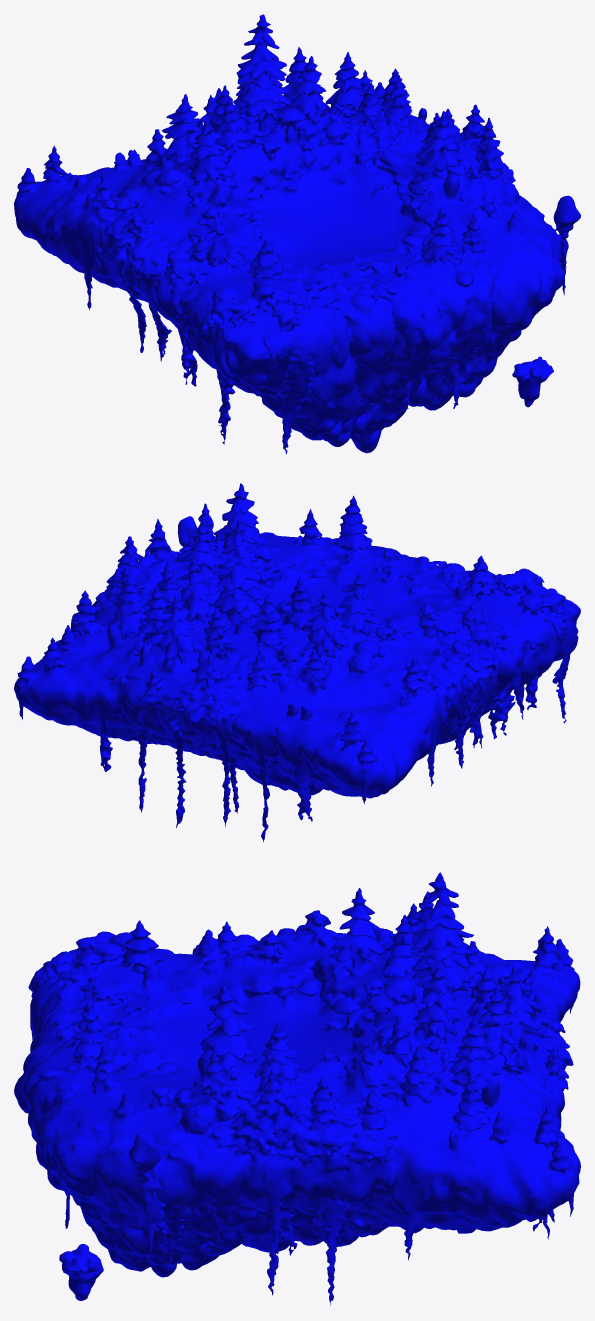
Rendered from forest.glb.
3 views of the same model, one above another, from view 1: azimuth 30°, elevation 25°; view 2: azimuth 150°, elevation 25°; view 3: azimuth 270°, elevation 25° (orthographic). The views are drawn at different scales.
Bounding box in the file's own units: 1.74 × 1.48 × 1.85.
Materials: 1 (1 with a texture image).
